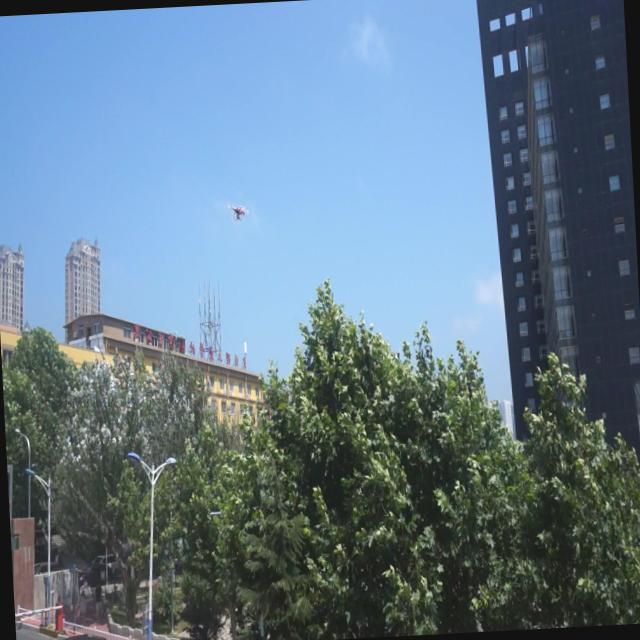drone: (225, 195, 254, 229)
